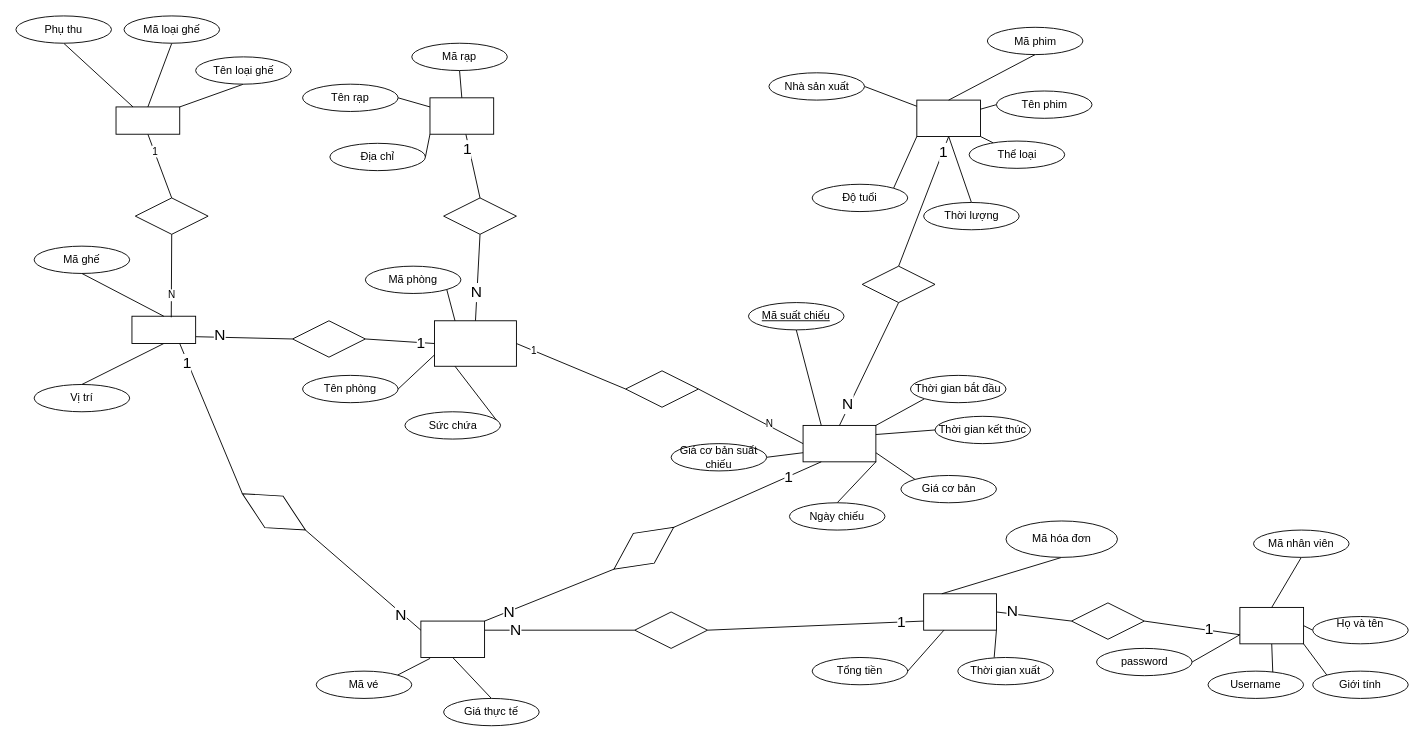
Some shapes in this 1424 by 742 pixel diagram are drawn without their labels. Here are the shapes that lost their labels. From the top down, the centre of each, then its label:
the point at 147,120: Loại ghế
the point at 461,115: Rạp
the point at 948,117: Phim
the point at 163,329: Ghế
the point at 475,343: Phòng chiếu
the point at 839,443: Suất chiếu
the point at 959,611: Hóa đơn
the point at 1271,625: Nhân viên
the point at 452,638: Vé
